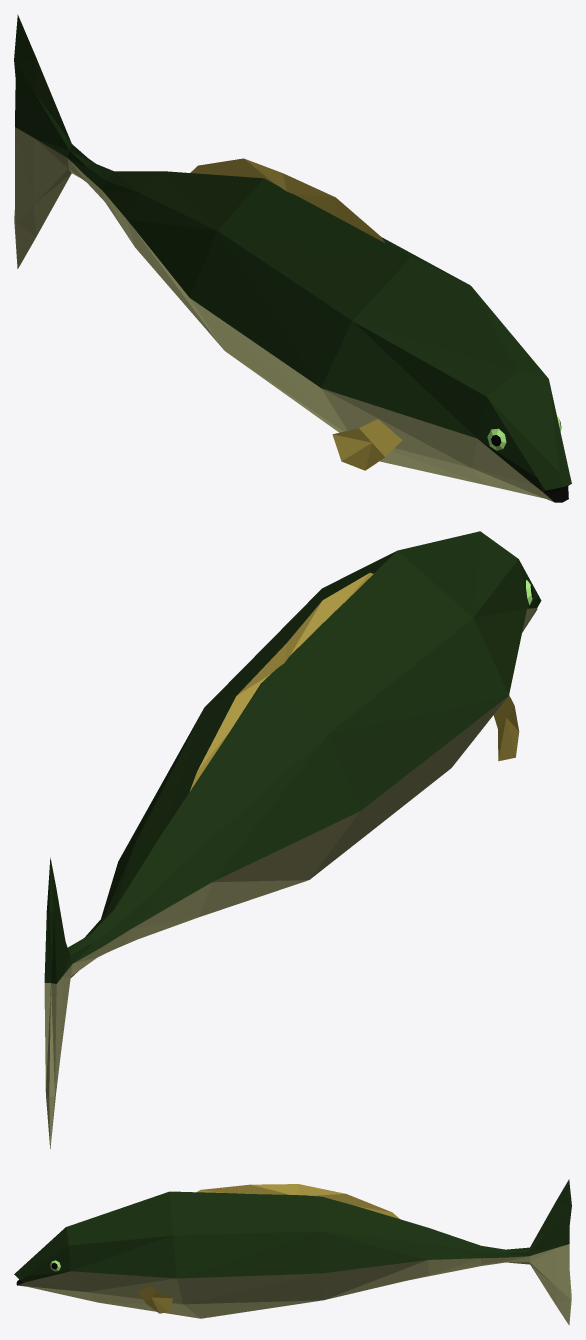
Rendered from Minnow_000007.obj.
3 views of the same model, one above another, from view 1: azimuth 30°, elevation 25°; view 2: azimuth 150°, elevation 25°; view 3: azimuth 270°, elevation 25° (orthographic). The views are drawn at different scales.
Bounding box in the file's own units: 0.677 × 0.9146 × 3.03.
